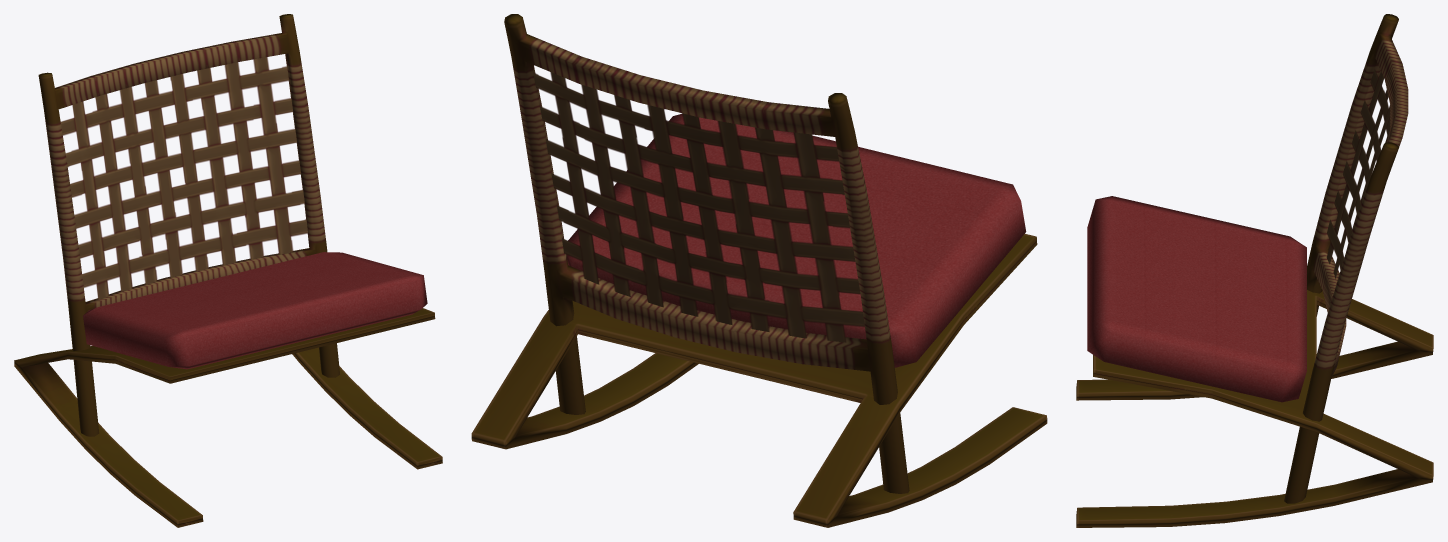
File: obj_rocking_chair_aad16a.glb
3 renders of one model, left to right at view 1: azimuth 30°, elevation 25°; view 2: azimuth 150°, elevation 25°; view 3: azimuth 270°, elevation 25°, orthographic. The views are drawn at different scales.
Parts seen in each view (by area): view 1: obj_rocking_chair_aad16a; view 2: obj_rocking_chair_aad16a; view 3: obj_rocking_chair_aad16a.
Boxes of the visible parts, x1,y1,x2,y2 form: obj_rocking_chair_aad16a: [14, 14, 442, 527]; obj_rocking_chair_aad16a: [471, 14, 1047, 527]; obj_rocking_chair_aad16a: [1076, 14, 1433, 527].
Bounding box in the file's own units: 0.8007 × 1 × 0.8572.
Materials: 1 (1 with a texture image).
